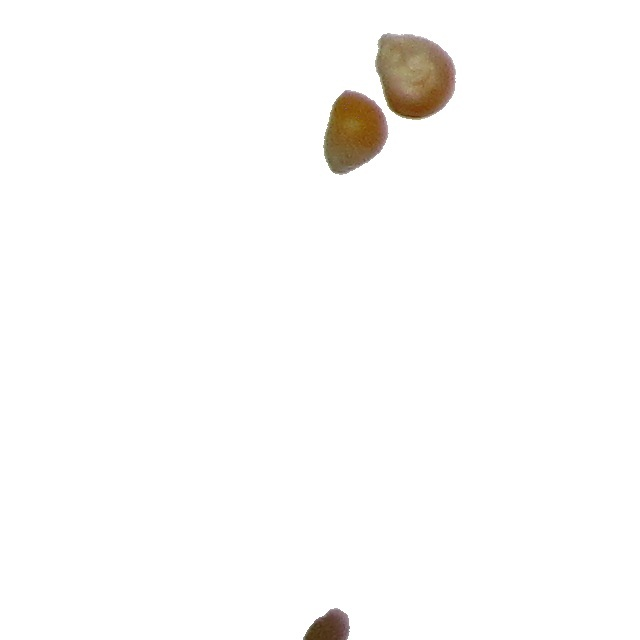buckwheat: (302, 607, 351, 640)
mais: (374, 32, 457, 121), (322, 89, 390, 176)
